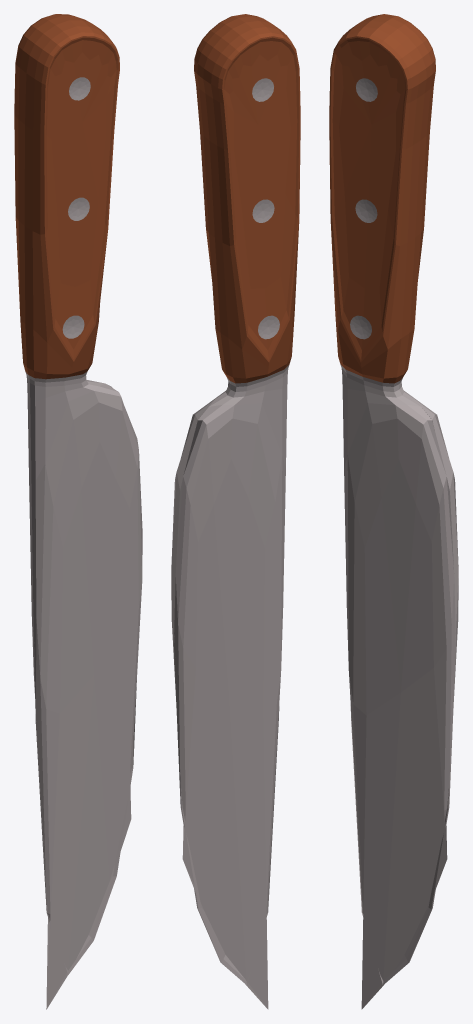
File: Knife.fbx
The picture shows the model from 3 angles, left to right: view 1: azimuth 30°, elevation 25°; view 2: azimuth 210°, elevation 25°; view 3: azimuth 330°, elevation 25°; orthographic projection.
Parts seen in each view (by area): view 1: Cube; view 2: Cube; view 3: Cube.
Boxes of the visible parts, box(x1,y1,x2,y2) form: Cube: box(14, 14, 142, 1009); Cube: box(171, 14, 300, 1009); Cube: box(329, 14, 458, 1009).
Bounding box in the file's own units: 60.94 × 495 × 27.59.
